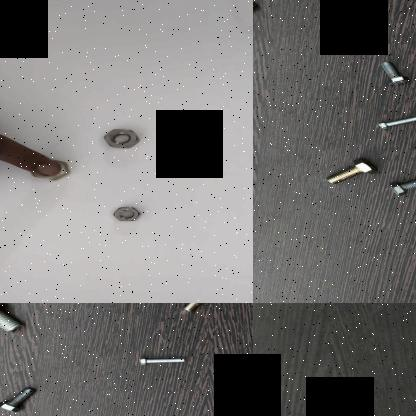Bolts: (323, 157, 381, 187), (0, 303, 35, 339), (0, 385, 42, 414), (375, 60, 412, 90), (371, 113, 416, 133), (384, 173, 416, 197), (136, 353, 190, 367), (176, 303, 229, 314)
NUTS: (96, 127, 146, 149), (105, 201, 145, 224)
